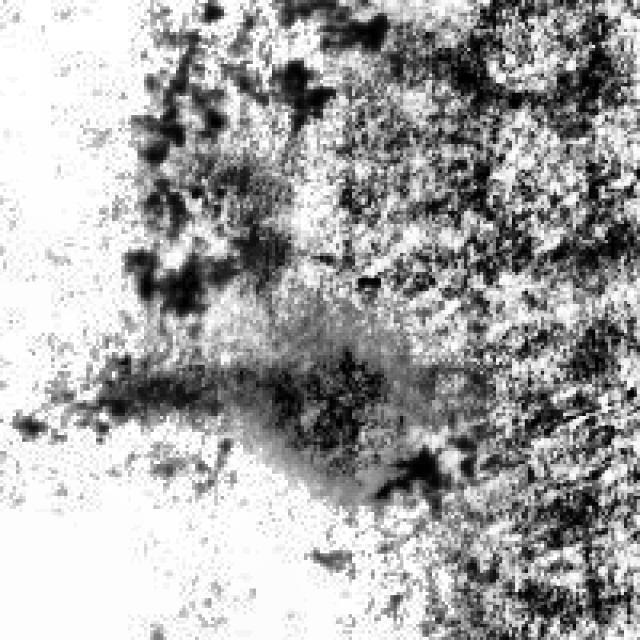Scratches: (221, 316, 406, 506)
